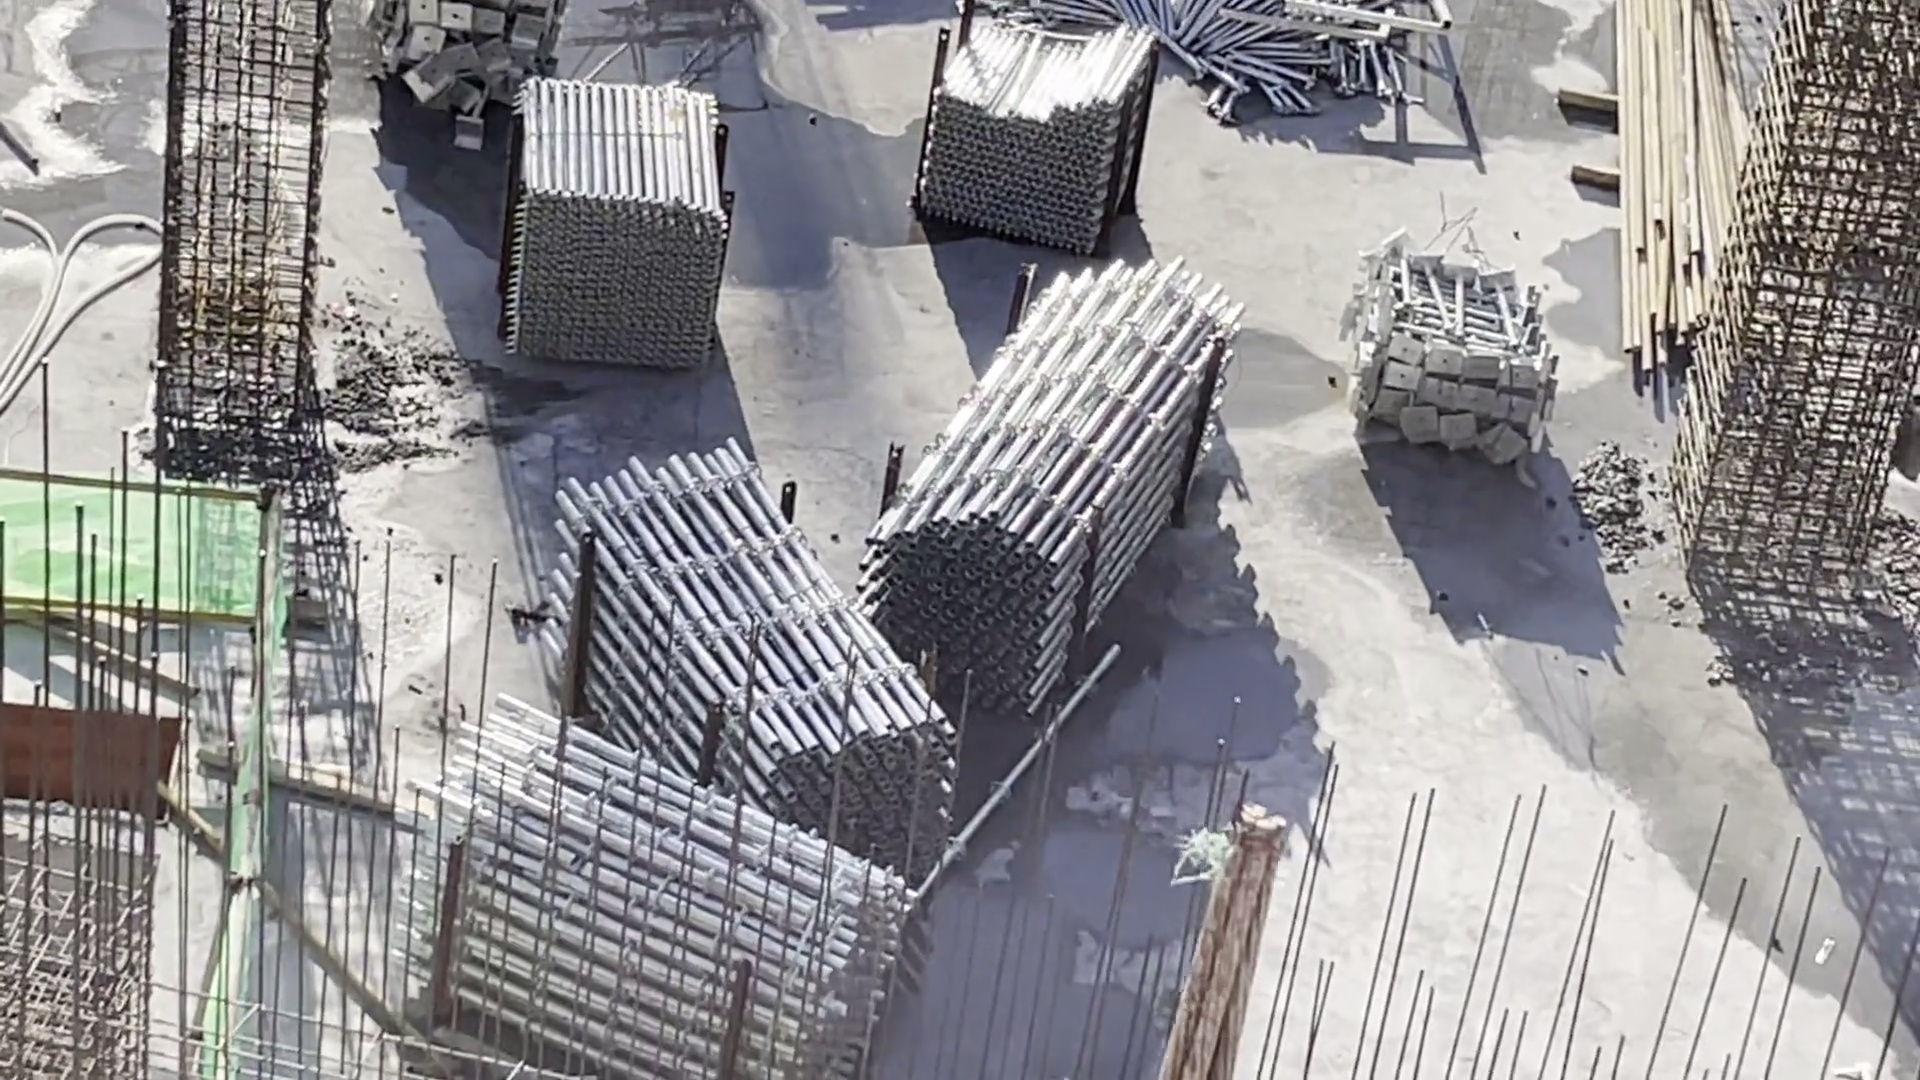scaffold: (386, 716, 922, 1080), (556, 452, 949, 889), (906, 251, 1233, 698), (496, 76, 737, 380), (1333, 227, 1586, 475), (909, 26, 1156, 243), (1095, 1, 1429, 136), (368, 1, 564, 145)
